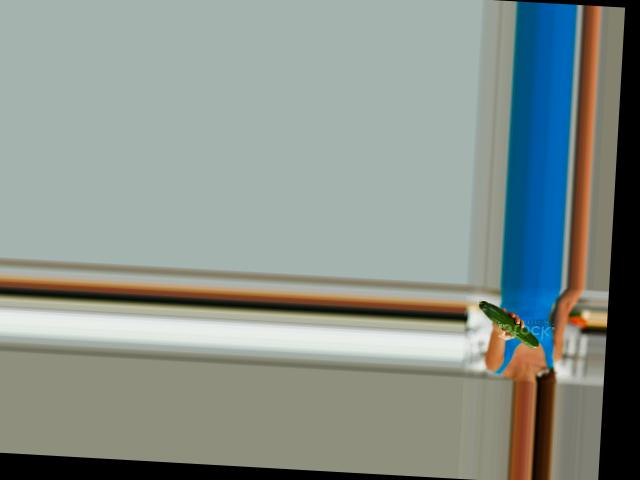cucumber: (477, 300, 541, 347)
